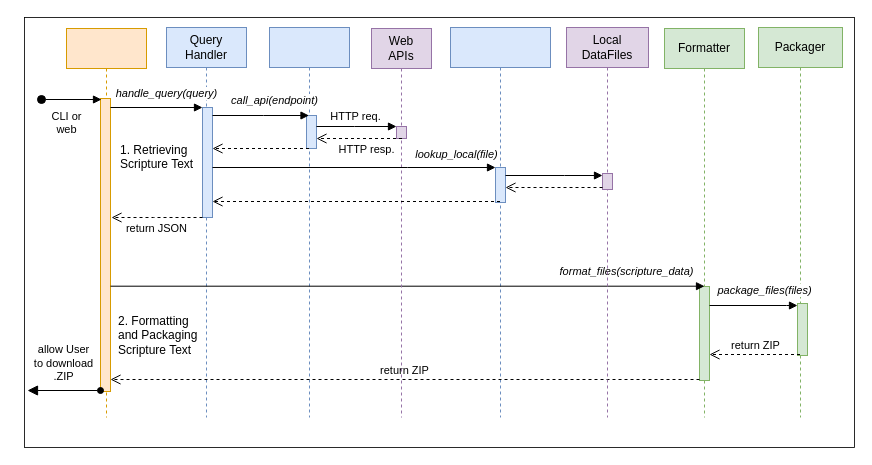
Some shapes in this 872 by 465 pixel diagram are drawn without their labels. The box of each missing label's shape, as (x1, y1, x2, y2) in pixels:
API Manager: (268, 26, 350, 418)
Local File System Manager: (450, 26, 550, 418)
Request Handler: (66, 28, 146, 418)
